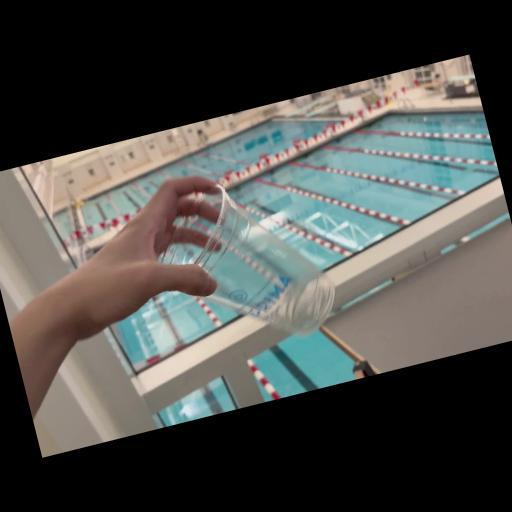lp_plastic_cup: (129, 152, 350, 368)
